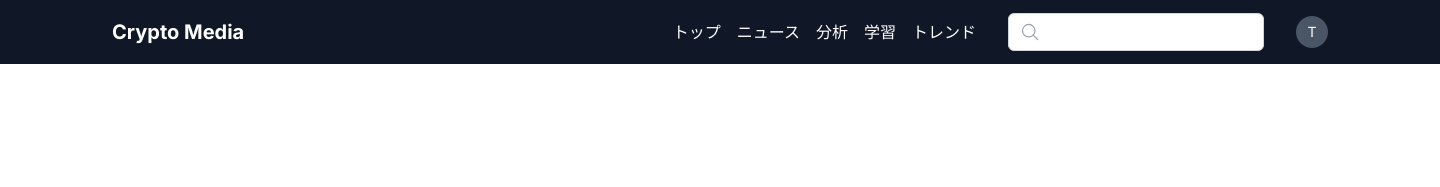
Scenario: MediaHeader › should show user avatar when authenticated and dropdown on click
The width and height of the screenshot is (1440, 187).
Expected: the text "T" is shown, [1308,22,1316,42]
Click the button "T": click(1312, 32) [1296,16,1328,48]
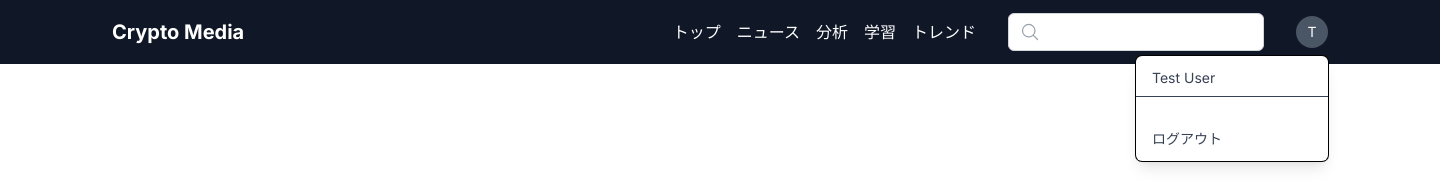
Expected: the link "マイページ" is shown, [1136,99,1216,119]
Expected: the button "ログアウト" is shown, [1136,121,1328,157]
